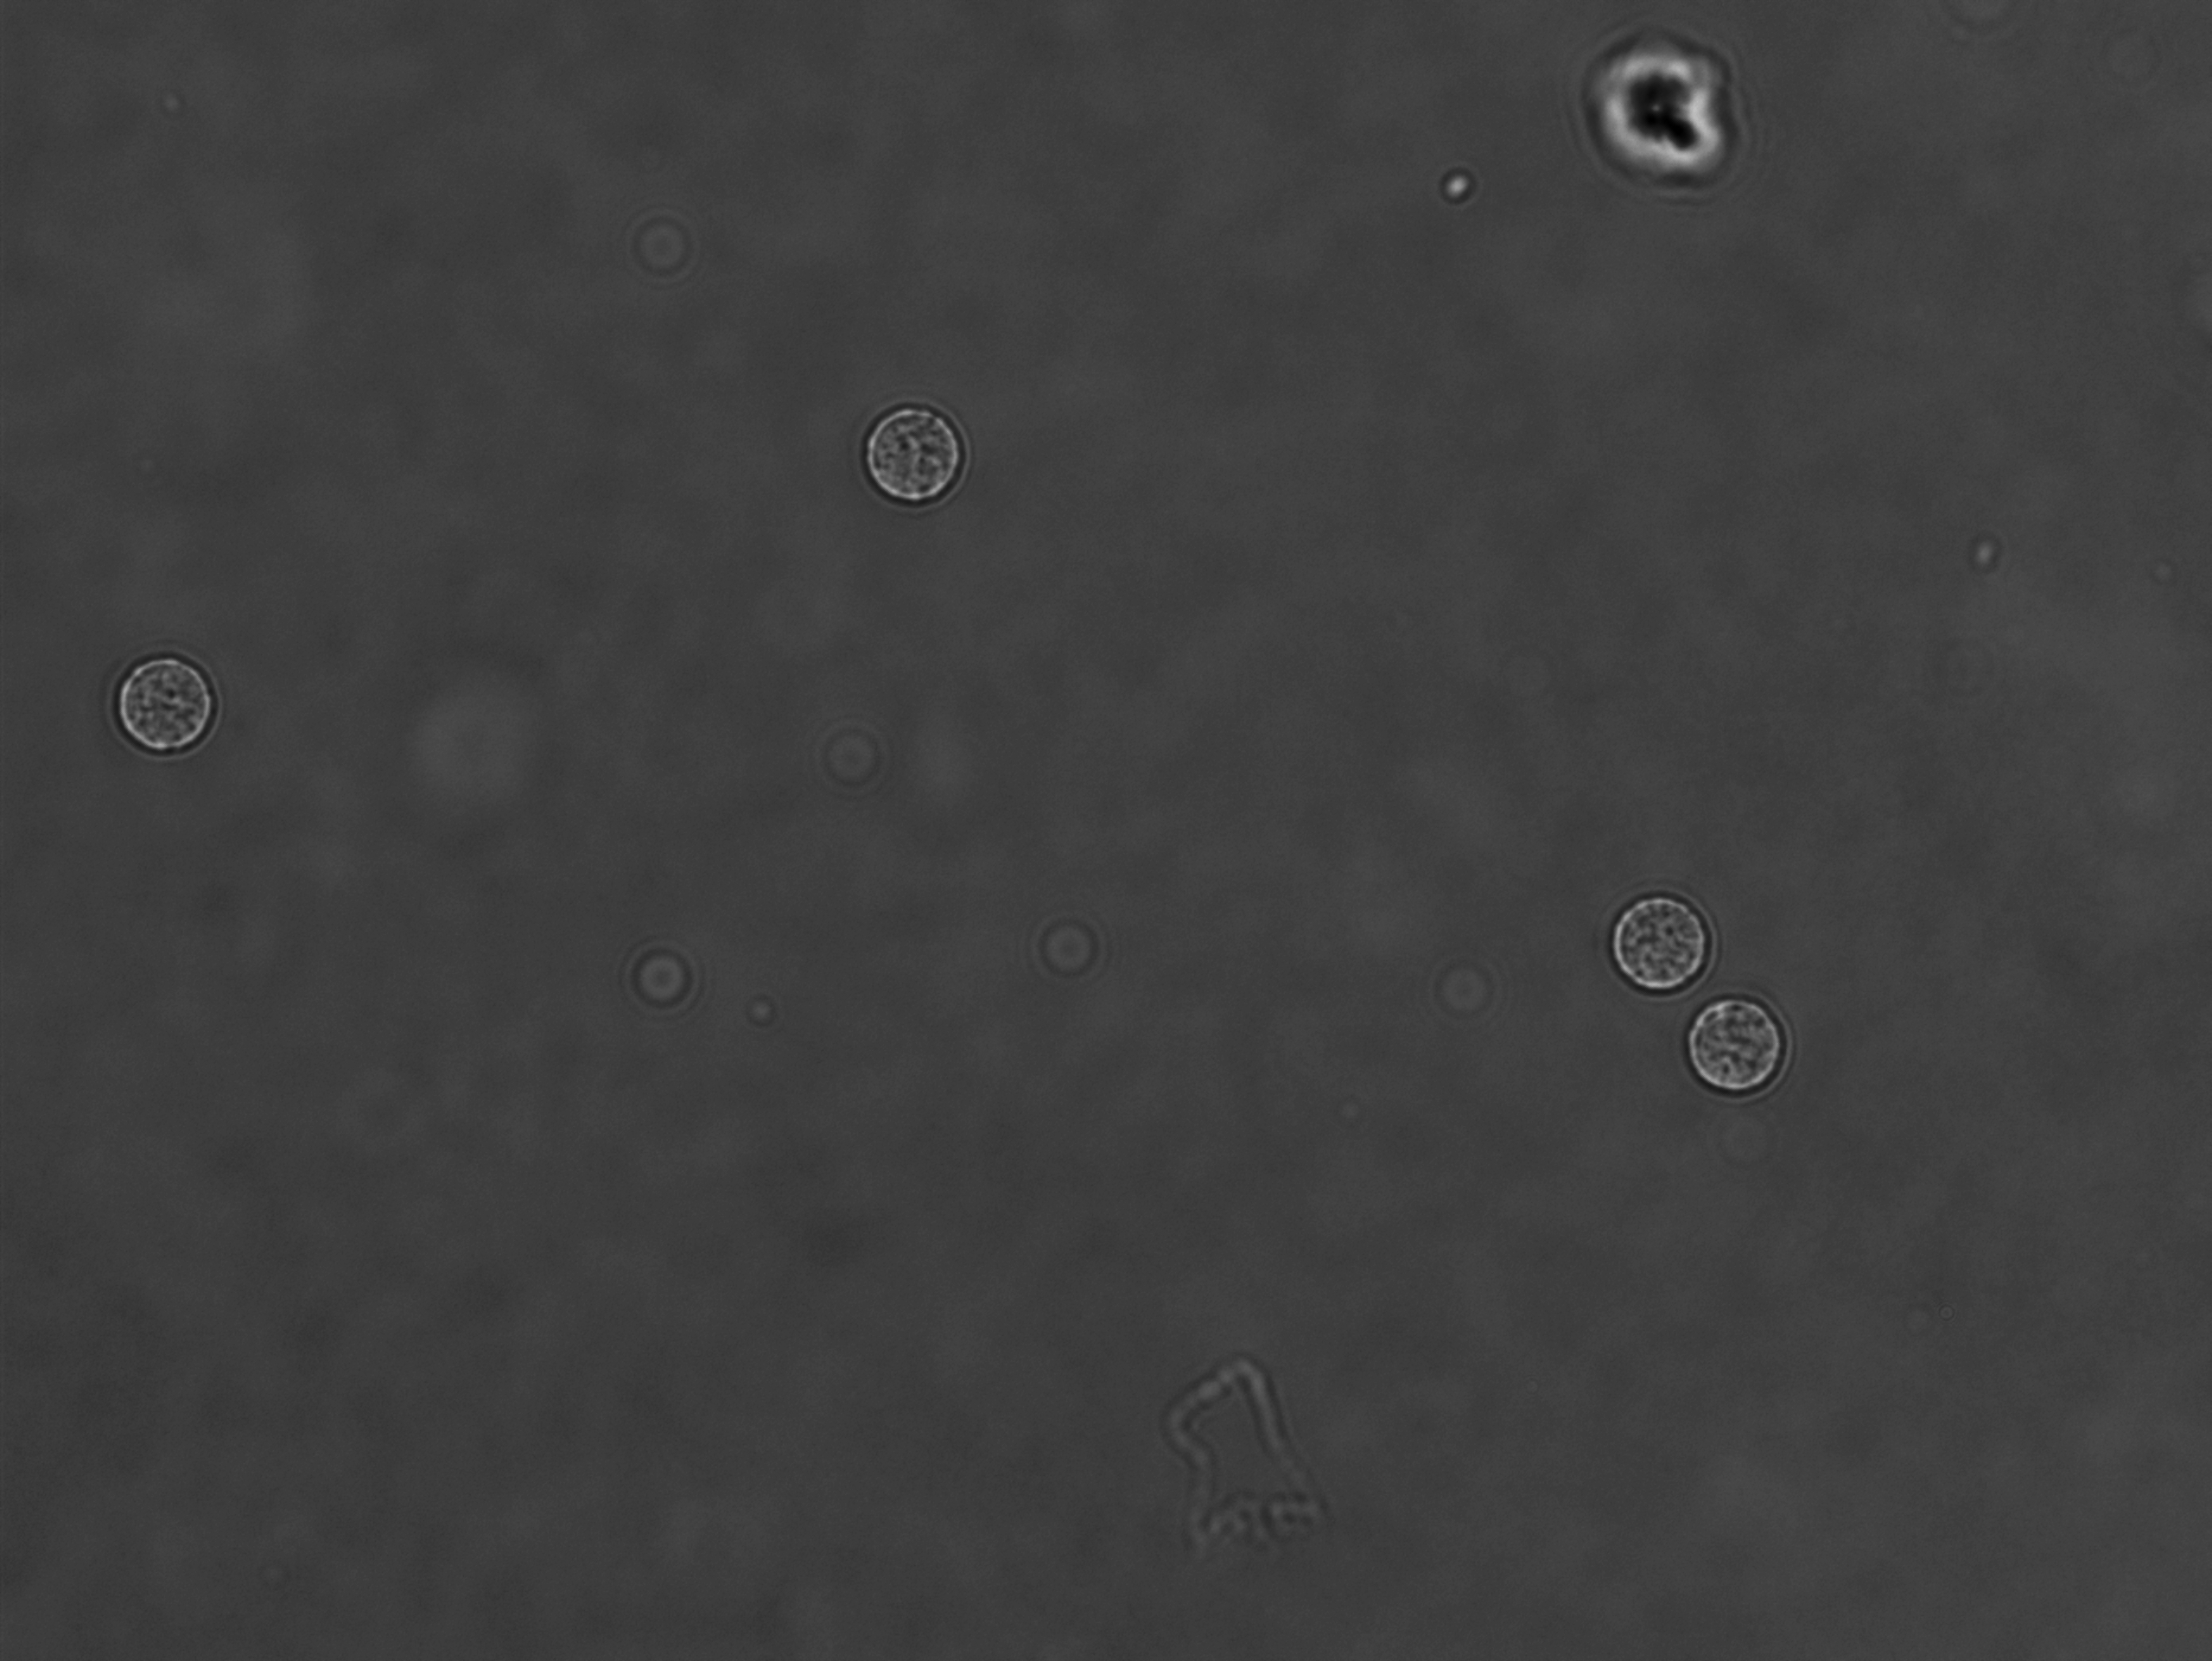depth:0: (94, 611, 234, 771), (1586, 850, 1718, 1008), (1676, 972, 1804, 1113), (853, 386, 965, 536)
